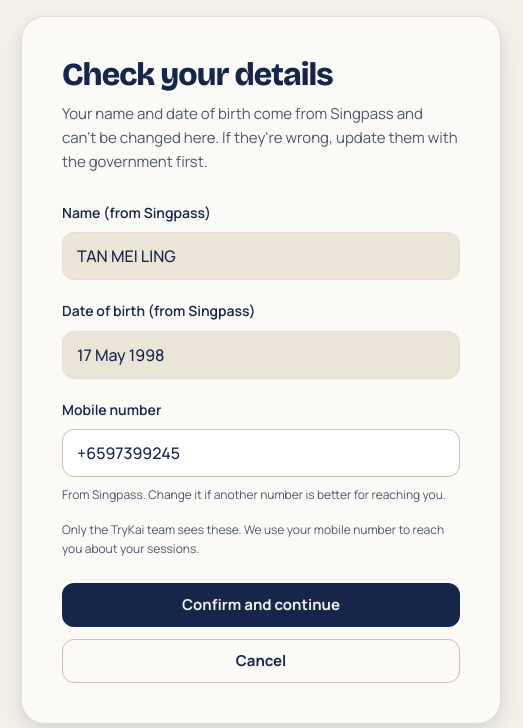
Scenario: SingpassReturn › shows the server's mobile error on the field and lets the host fix it
The width and height of the screenshot is (523, 728).
Expected: the heading "Check your details" is shown, [62, 55, 333, 94]
Click the button "Confirm and continue". click: [261, 604]
box: [62, 582, 460, 626]
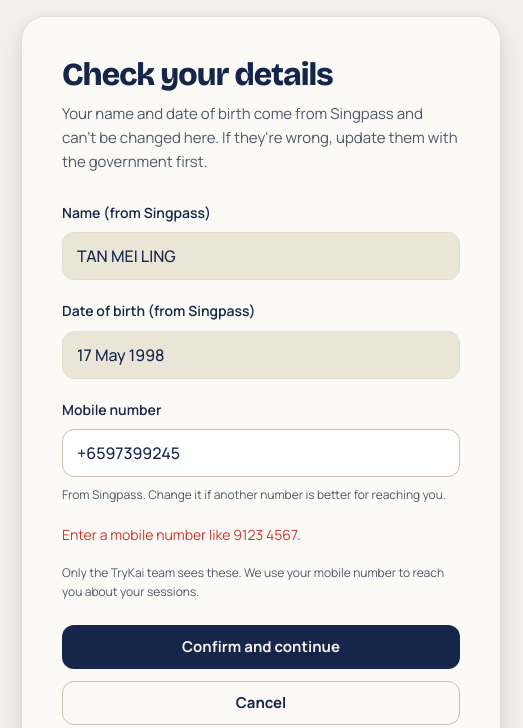
Expected: the heading "Check your details" is shown, [62, 55, 333, 94]
Now the text "Enter a mobile number like 9123 4567." is shown, box [62, 525, 301, 544]
